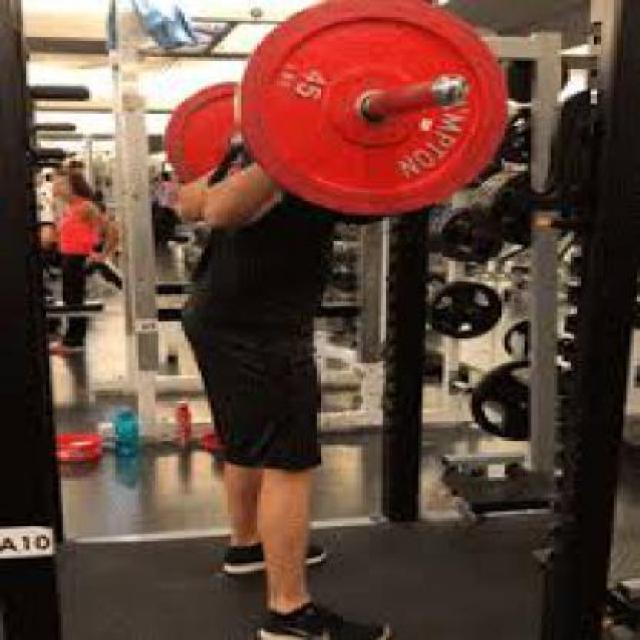barbell: (236, 1, 515, 221)
